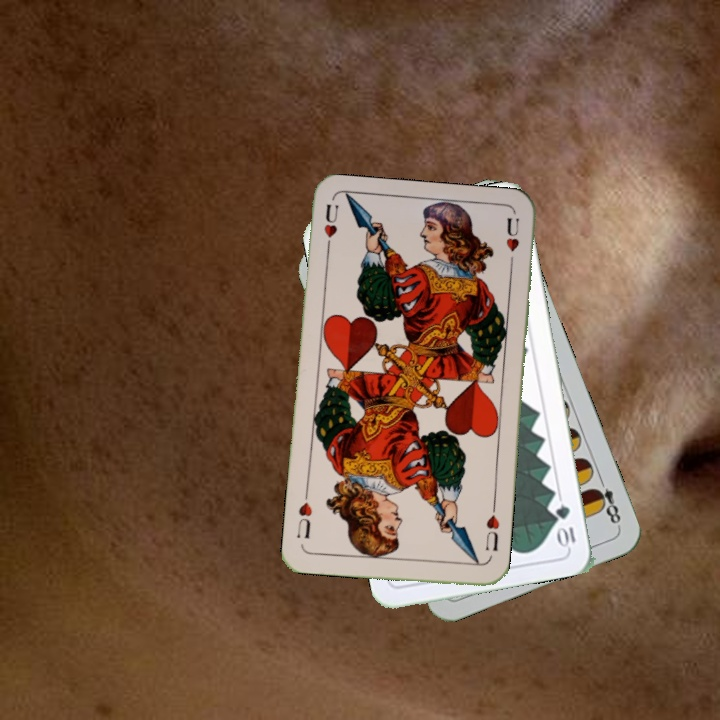E8: (589, 472, 624, 527)
G10: (552, 500, 578, 550)
HU: (320, 200, 341, 258), (481, 511, 502, 553)
